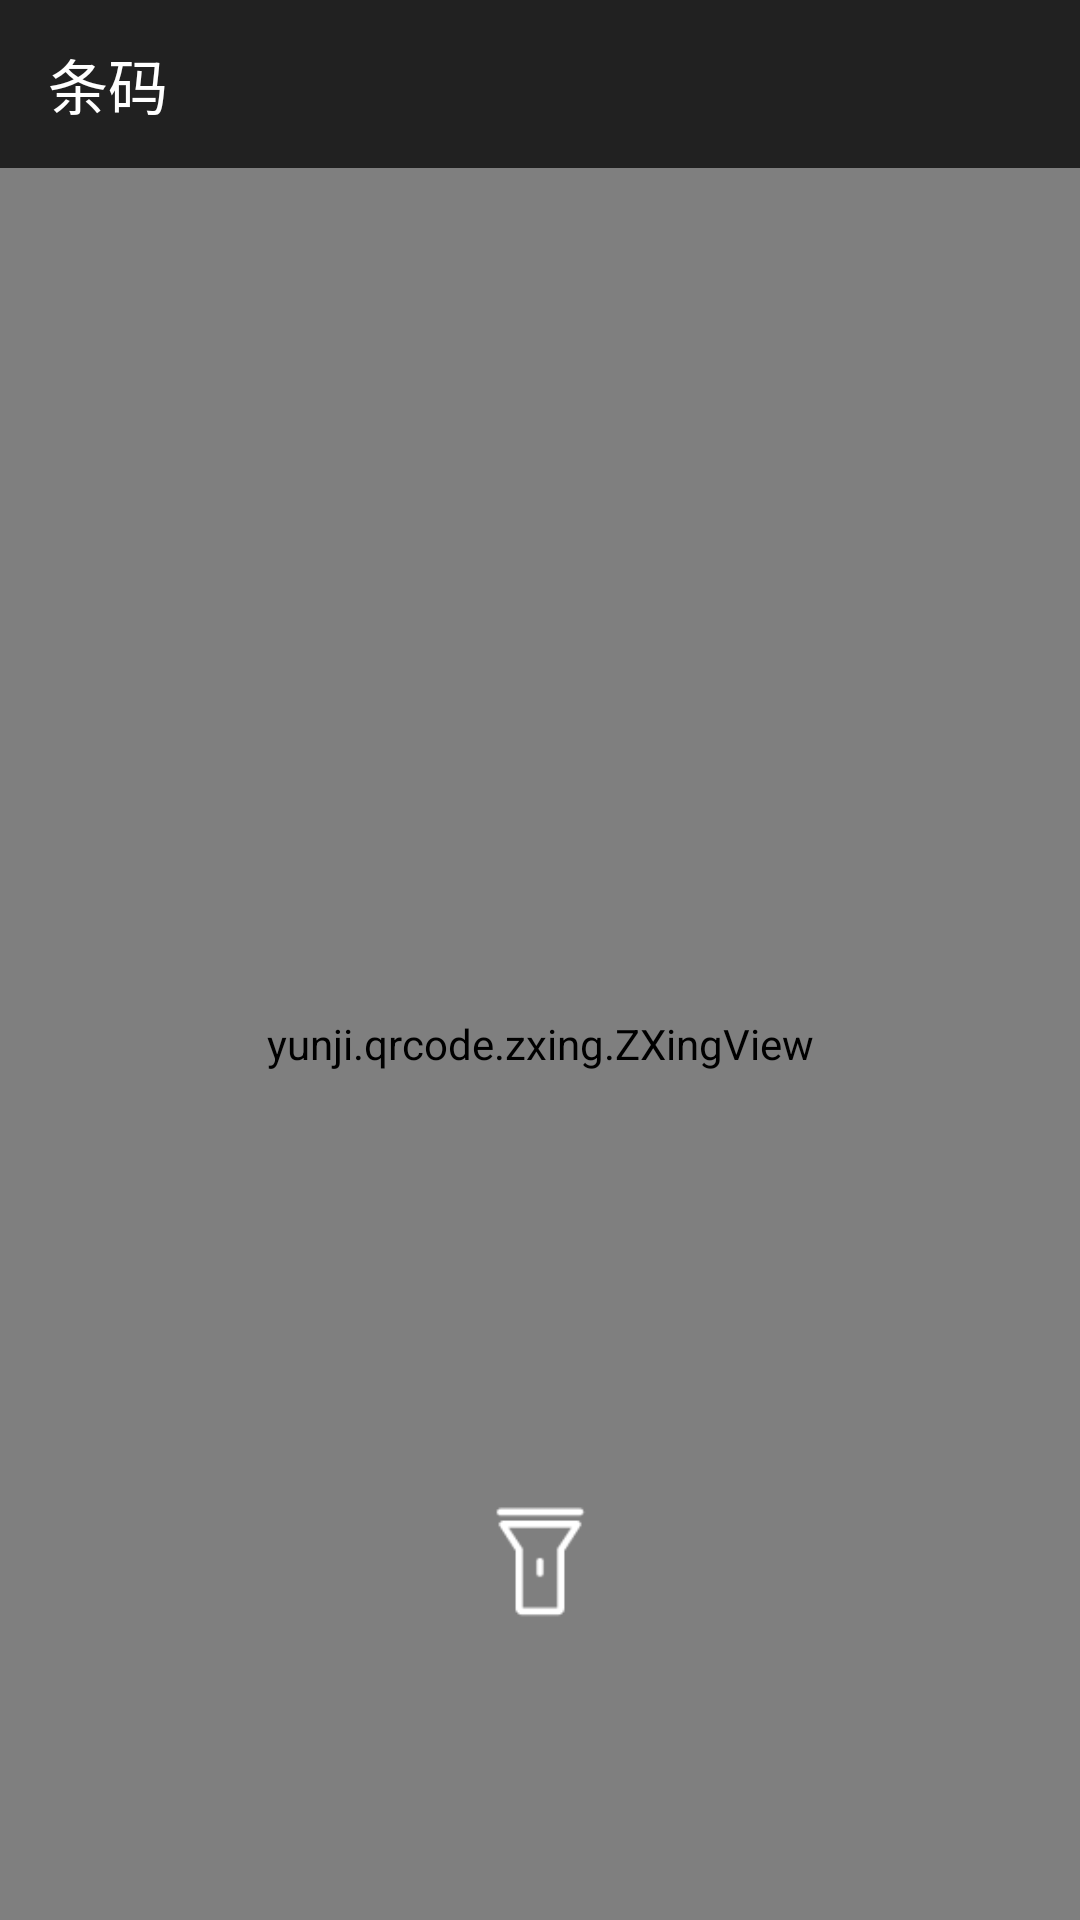

Named icons in this screenshot (1080px x 1920px) and their bounding boxes, (x1, y1, x2, y2):
off: (496, 1507, 584, 1616)
